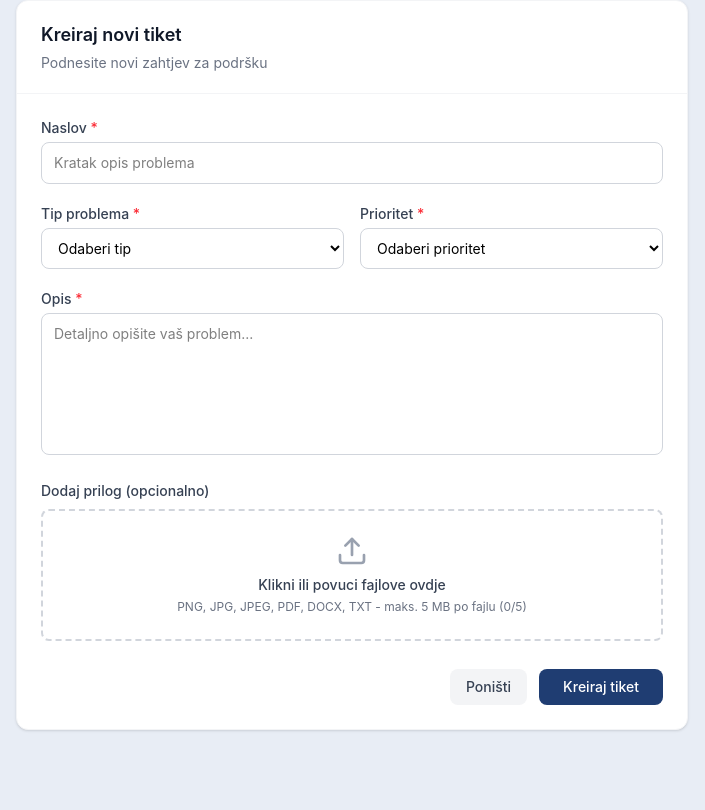
Test: CreateTicket page › shows unauthorized error message on 401 response
This screenshot has width=705, height=810.
Type "Internet problem" into the field labelled "Naslov *" at x=352, y=163, box [41, 142, 663, 184]
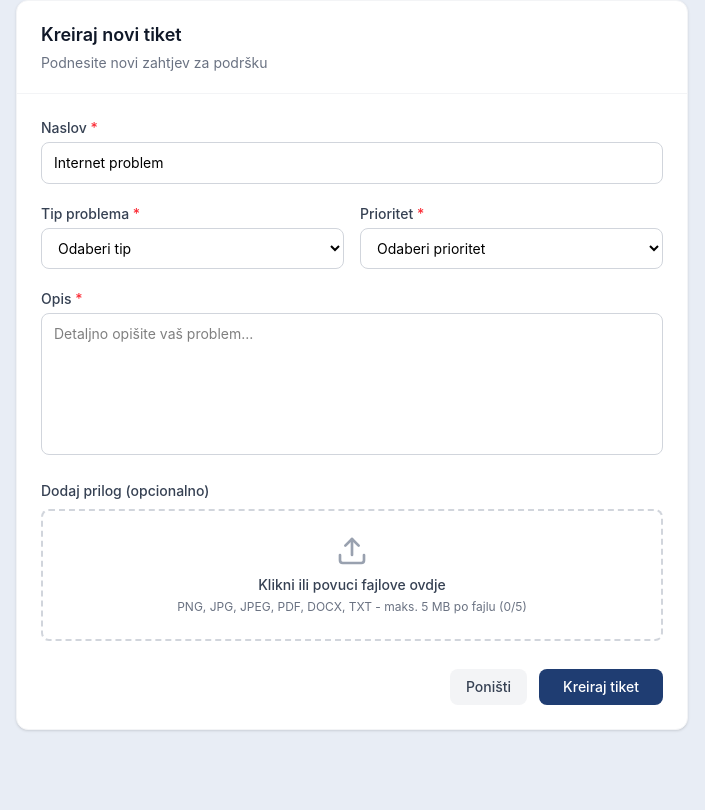
Select "Internet" in the dropdown labelled "Tip problema *" at x=192, y=248, box [41, 228, 344, 269]
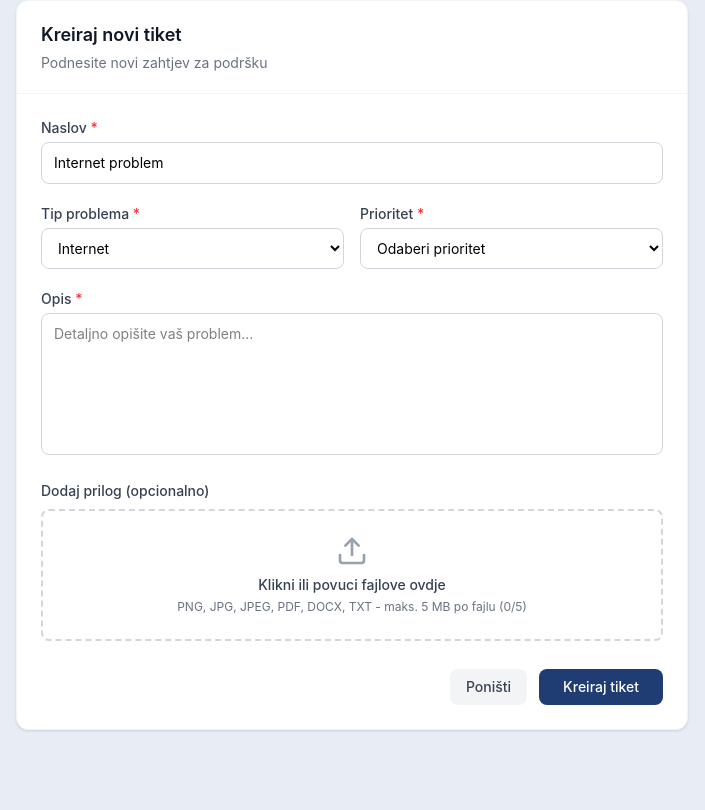
Type "Ne radi internet" into the text box labelled "Opis *" at x=352, y=384, box [41, 313, 663, 455]
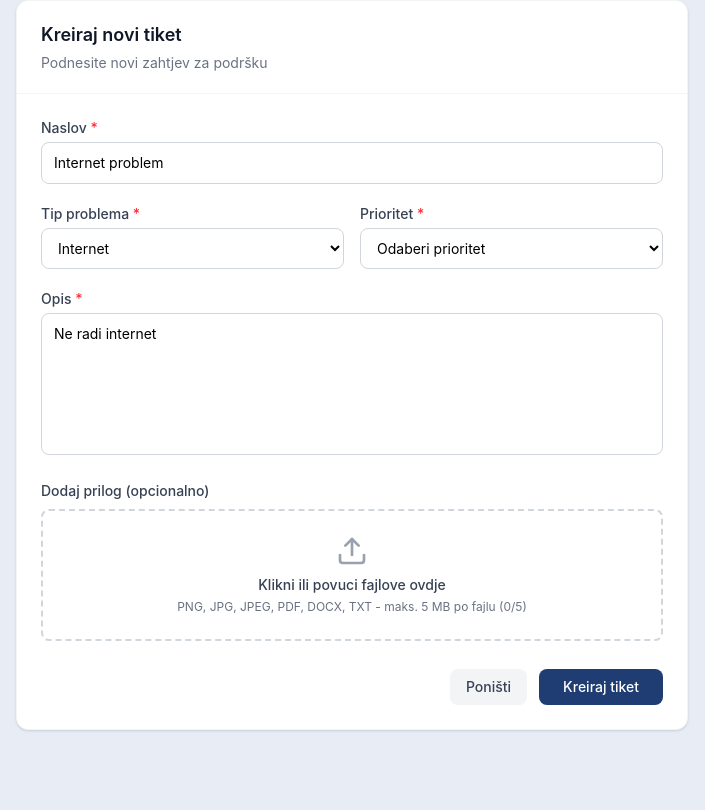
Select "Visok" in the dropdown labelled "Prioritet *" at x=512, y=248, box [360, 228, 663, 269]
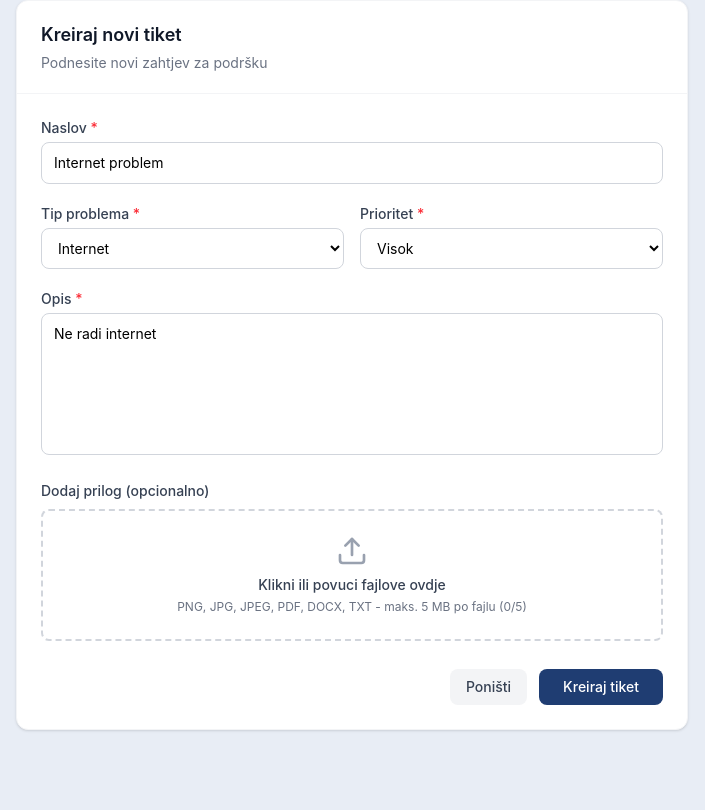
Submit the form named "kreiraj tiket"
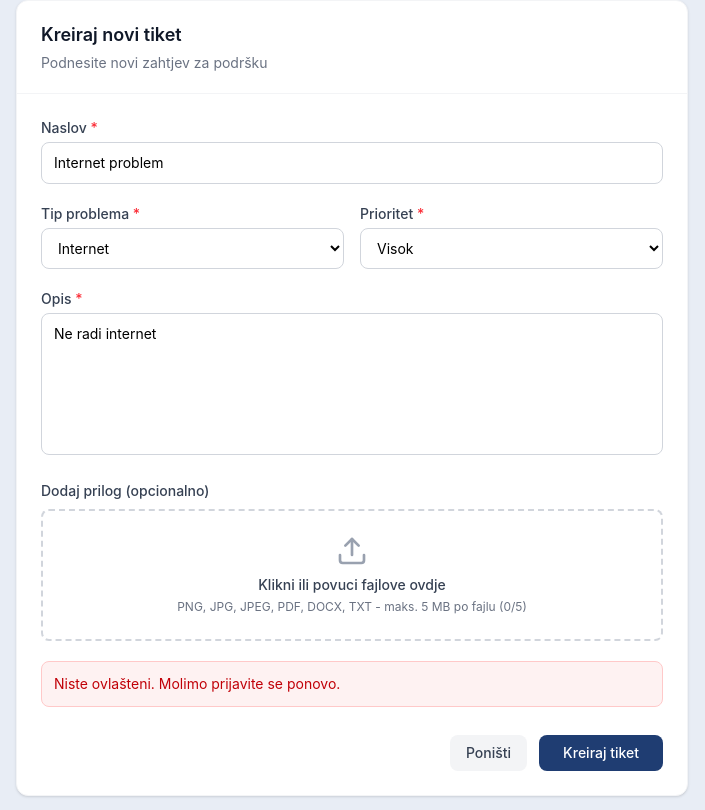
Now the text "Niste ovlašteni. Molimo prijavite se ponovo." is shown, box [41, 661, 663, 707]
